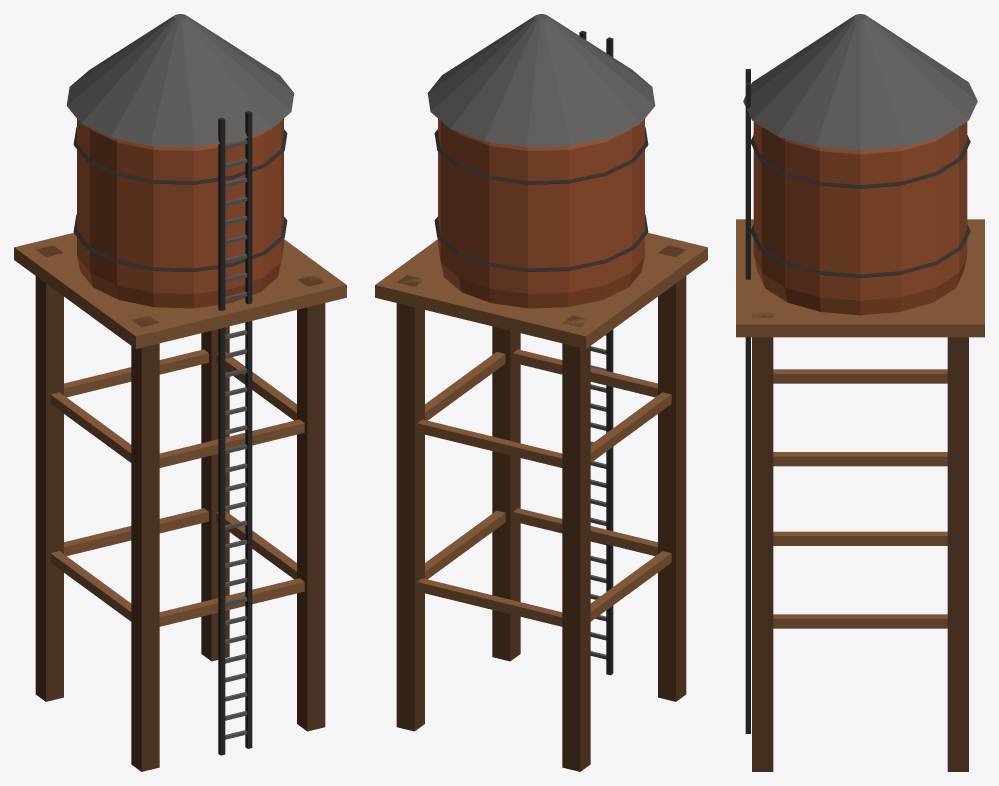
The model's file is Watertower.fbx.
3 renders of one model, left to right at view 1: azimuth 30°, elevation 25°; view 2: azimuth 150°, elevation 25°; view 3: azimuth 270°, elevation 25°, orthographic. The views are drawn at different scales.
Visible parts, largest first — view 1: Frame, Tank, Ladder, Deck; view 2: Frame, Tank, Deck, Ladder; view 3: Tank, Frame, Deck, Ladder.
Boxes of the visible parts, x1=… form: Frame: x1=35, y1=246, x2=325, y2=771; Tank: x1=66, y1=14, x2=294, y2=308; Ladder: x1=73, y1=111, x2=287, y2=755; Deck: x1=14, y1=233, x2=346, y2=348; Frame: x1=396, y1=245, x2=686, y2=771; Tank: x1=427, y1=14, x2=655, y2=308; Deck: x1=375, y1=233, x2=707, y2=348; Ladder: x1=434, y1=31, x2=648, y2=675; Tank: x1=743, y1=14, x2=977, y2=315; Frame: x1=752, y1=312, x2=968, y2=771; Deck: x1=736, y1=219, x2=984, y2=337; Ladder: x1=745, y1=69, x2=970, y2=733.
Size of the model in its own units: 14 by 44 by 14.
